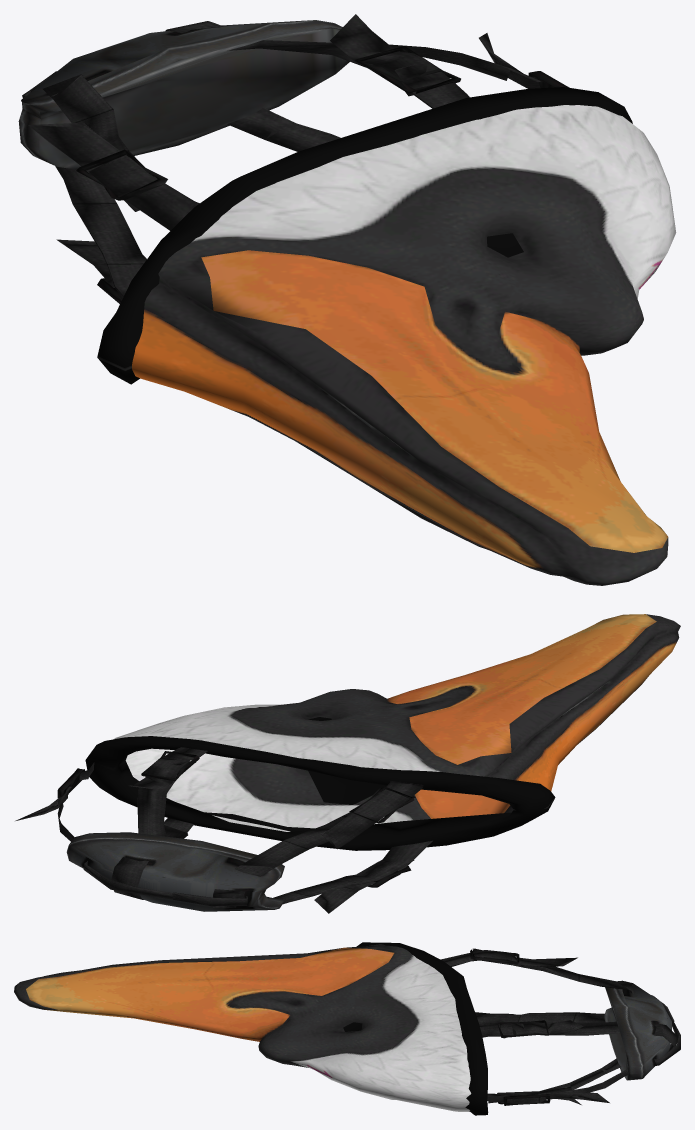
File: SwanMask_Ground.fbx
The picture shows the model from 3 angles, top to bottom: view 1: azimuth 30°, elevation 25°; view 2: azimuth 150°, elevation 25°; view 3: azimuth 270°, elevation 25°; orthographic projection. The views are drawn at different scales.
Visible parts, largest first — view 1: SwanMask; view 2: SwanMask; view 3: SwanMask.
Part boxes in pixels (bbox=[...]): SwanMask: bbox=[18, 14, 676, 585]; SwanMask: bbox=[15, 614, 680, 913]; SwanMask: bbox=[14, 942, 680, 1115].
Size of the model in its own units: 0.1559 by 0.034 by 0.2829.
